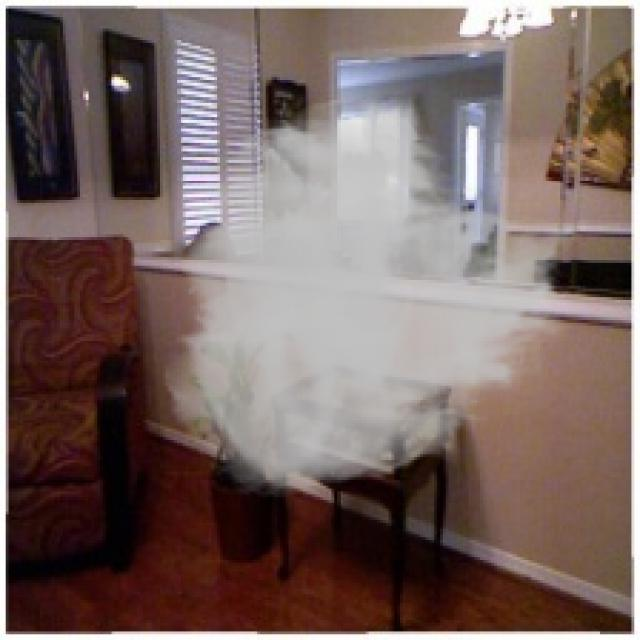smoke: (160, 94, 583, 500)
